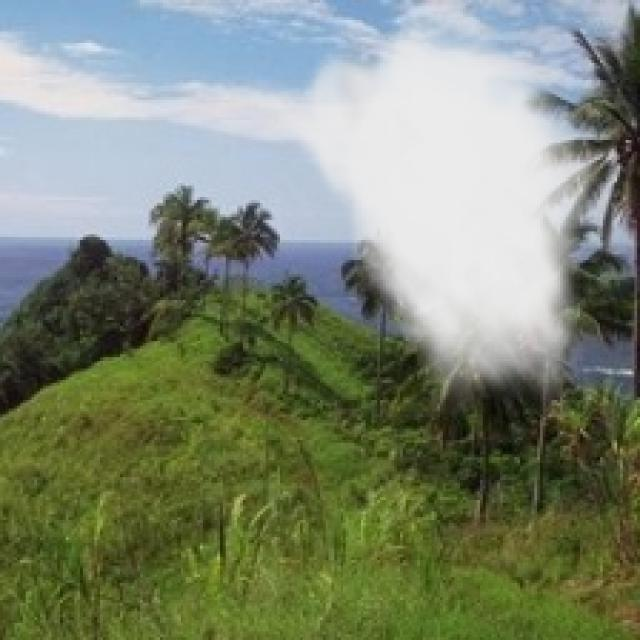smoke: (234, 0, 603, 420)
